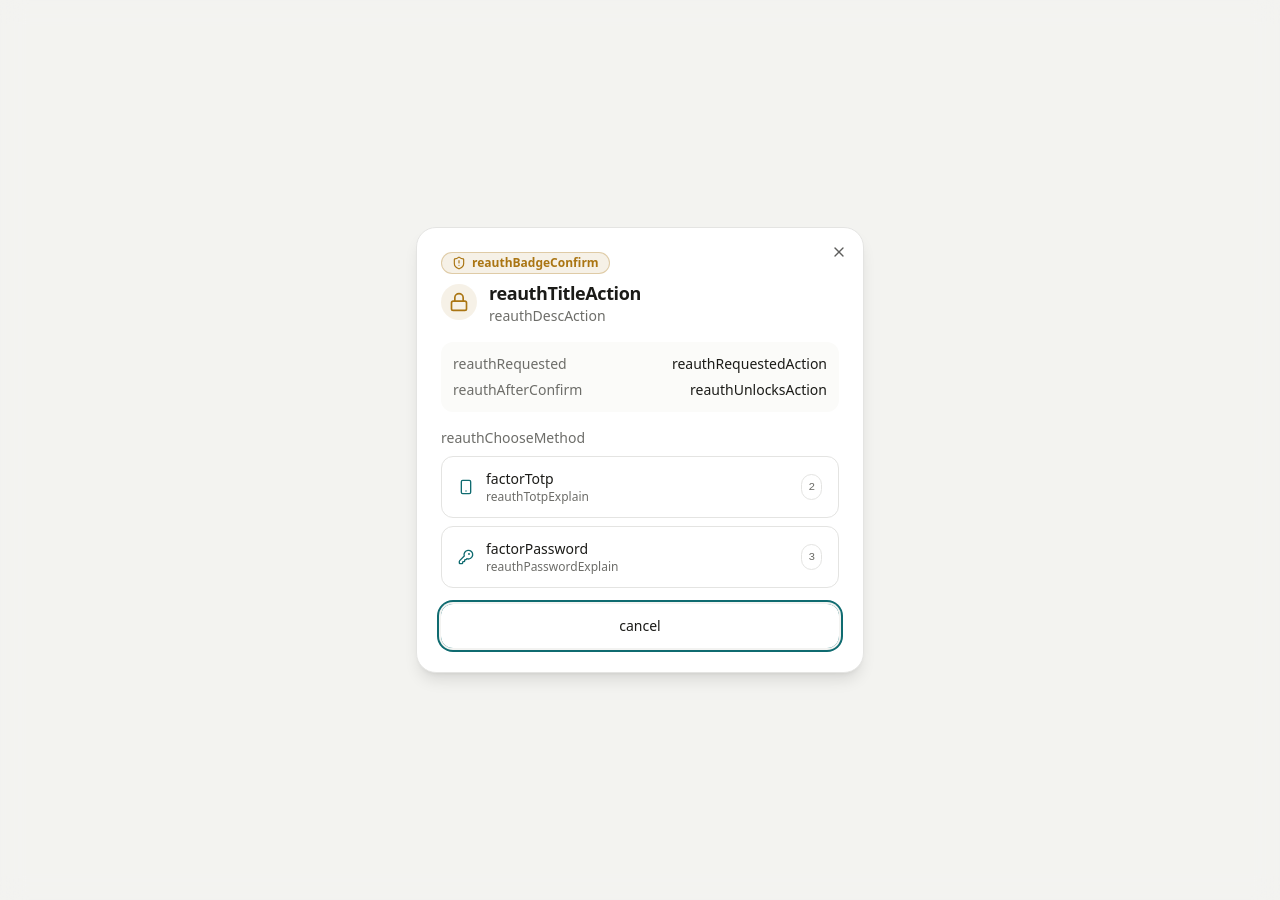
Scenario: StepUpProvider › the reason shown for a failed verification › shows what the server said, not a fixed local string
Click the text "factorTotp" at (520, 479), box [486,469,554,489]
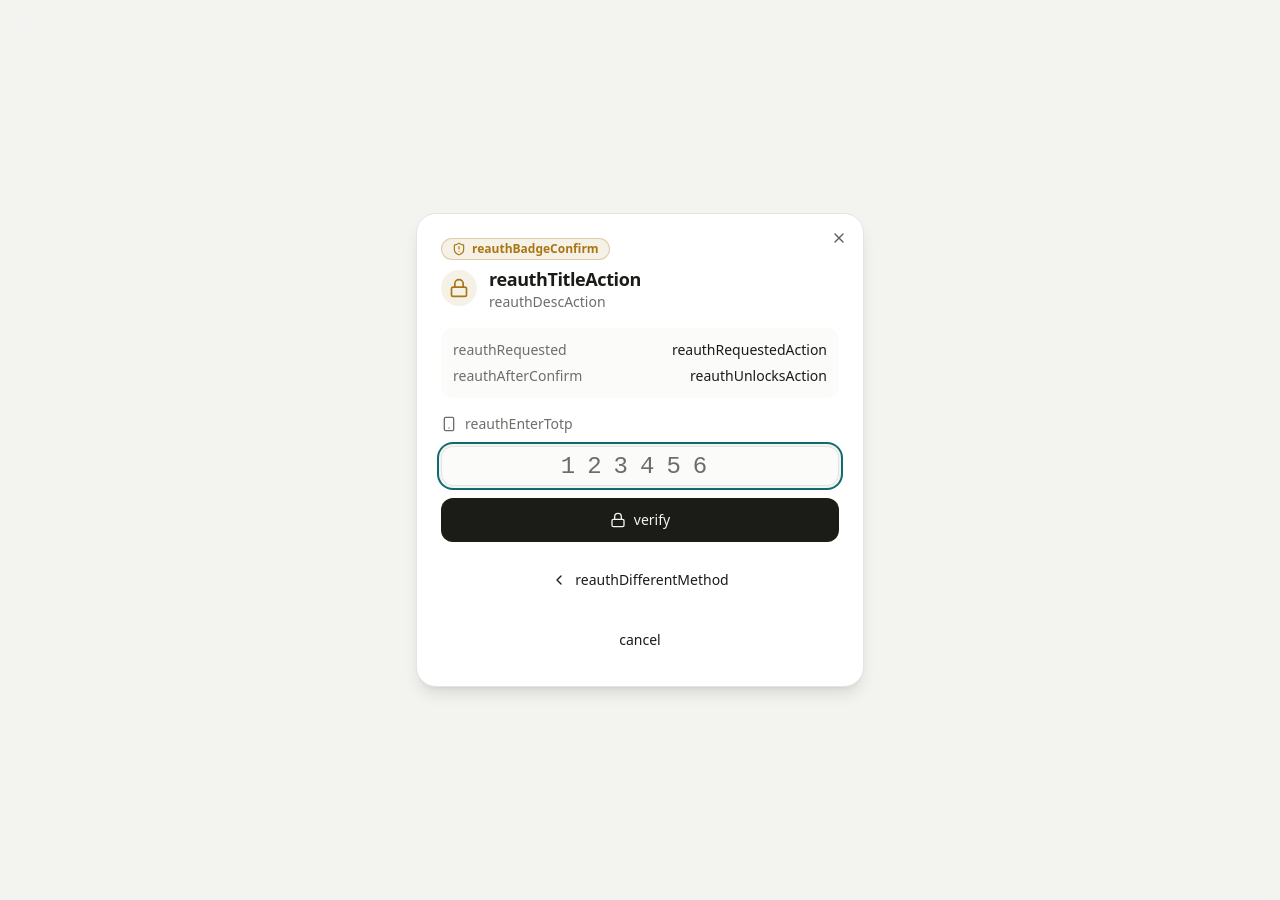
Submit the form, box [441,414,839,542]
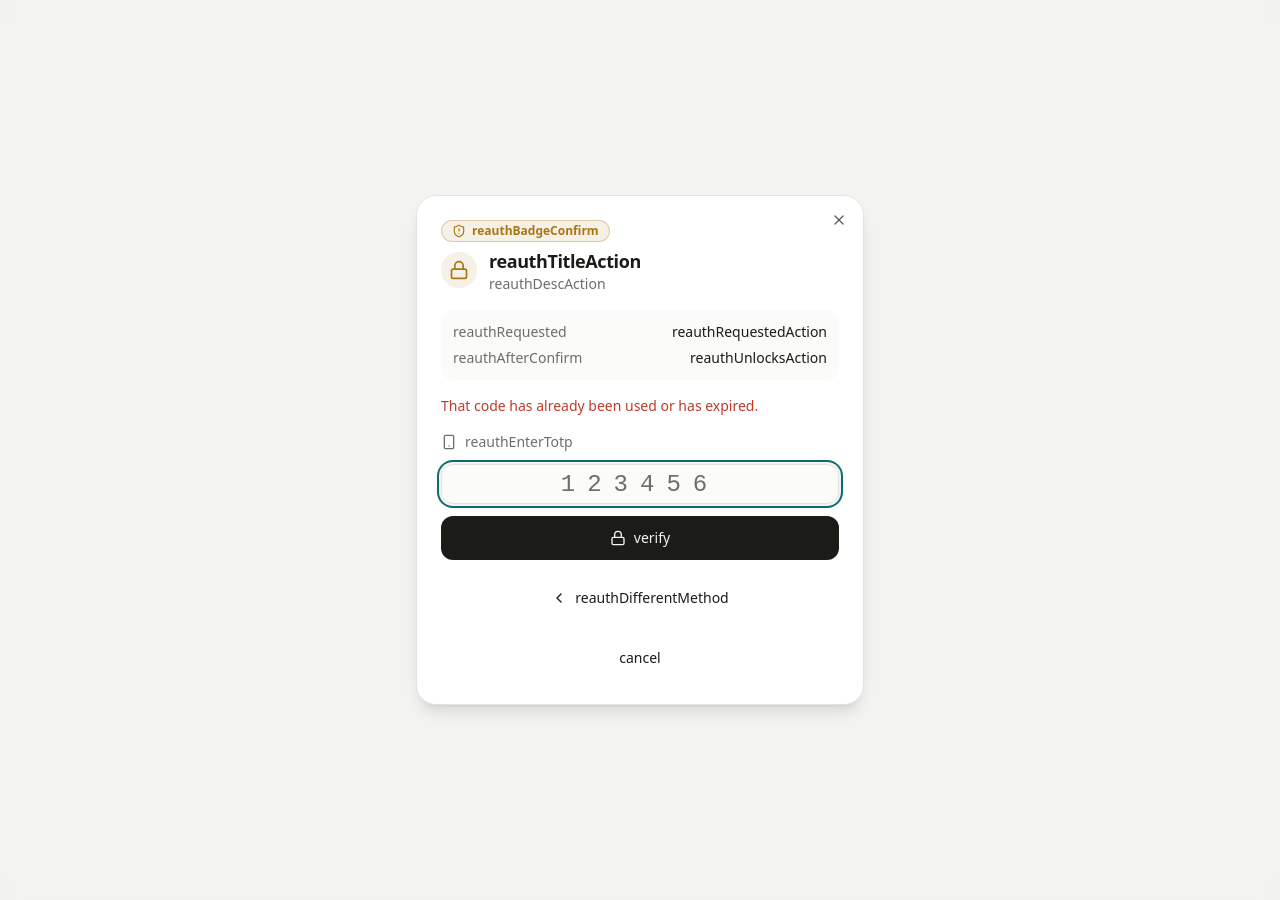
Now the text "That code has already been used or has expired." is shown, box [441,396,758,415]
